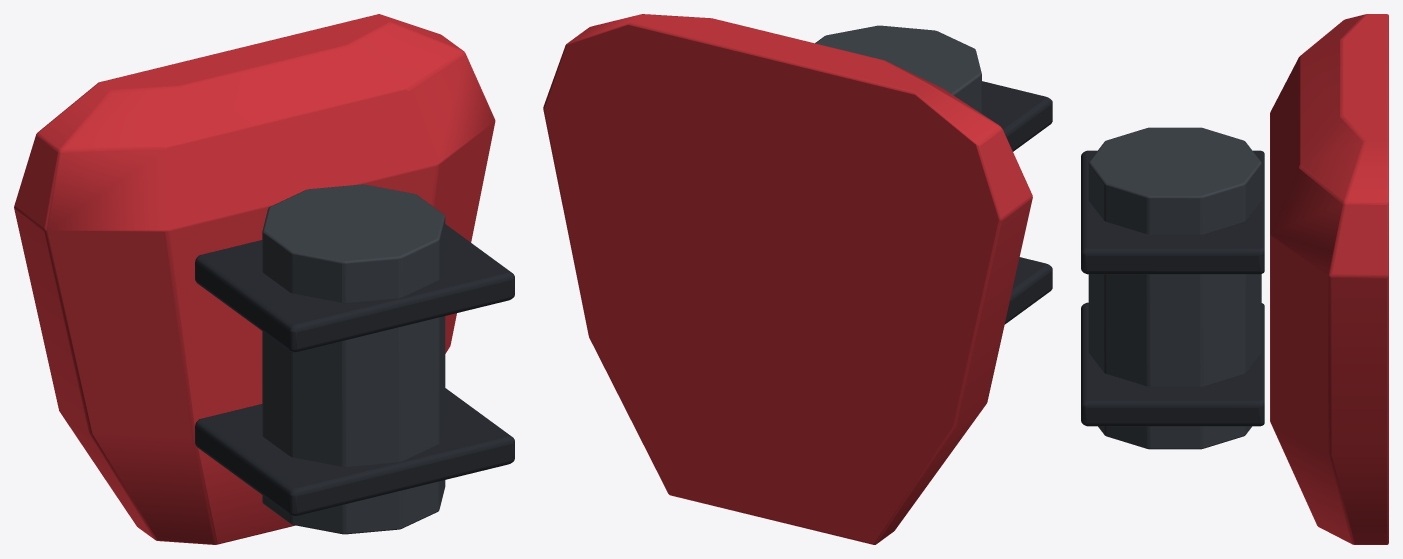
The model's file is HeadBack_Set08_Goliath.fbx.
3 views of the same model, side by side, from view 1: azimuth 30°, elevation 25°; view 2: azimuth 150°, elevation 25°; view 3: azimuth 270°, elevation 25° (orthographic). The views are drawn at different scales.
Parts seen in each view (by area): view 1: HeadBack_Set08_Goliath; view 2: HeadBack_Set08_Goliath; view 3: HeadBack_Set08_Goliath.
Part boxes in pixels (x1,y1,x2,y2): HeadBack_Set08_Goliath: [14, 14, 514, 544]; HeadBack_Set08_Goliath: [543, 14, 1052, 544]; HeadBack_Set08_Goliath: [1081, 14, 1388, 544].
Bounding box in the file's own units: 0.5592 × 0.54 × 0.3568.
